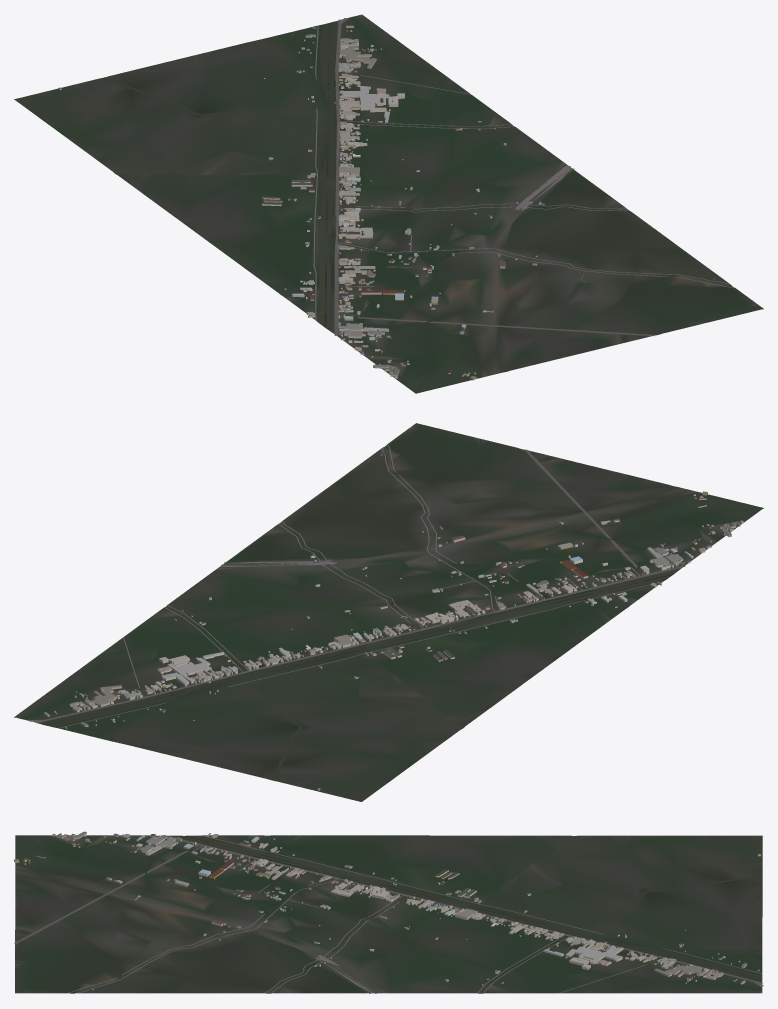
The picture shows the model from 3 angles, top to bottom: view 1: azimuth 30°, elevation 25°; view 2: azimuth 150°, elevation 25°; view 3: azimuth 270°, elevation 25°; orthographic projection. The views are drawn at different scales.
Visible parts, largest first — view 1: ground, buildings, roads, water; view 2: ground, buildings, roads, water; view 3: ground, buildings, roads, water.
Part boxes in pixels (x1=…): ground: x1=14, y1=14, x2=763, y2=393; buildings: x1=58, y1=25, x2=714, y2=380; roads: x1=290, y1=15, x2=734, y2=335; water: x1=101, y1=21, x2=335, y2=330; ground: x1=14, y1=423, x2=763, y2=801; buildings: x1=44, y1=454, x2=743, y2=790; roads: x1=15, y1=444, x2=685, y2=728; water: x1=41, y1=570, x2=677, y2=780; ground: x1=15, y1=835, x2=762, y2=993; buildings: x1=14, y1=831, x2=760, y2=990; roads: x1=14, y1=835, x2=763, y2=993; water: x1=175, y1=835, x2=762, y2=981.
Bounding box in the file's own units: 1427 × 18.36 × 2811.
